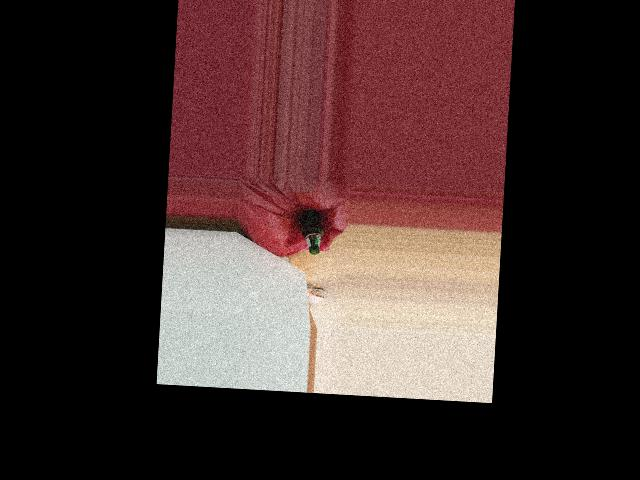beer: (298, 209, 324, 254)
